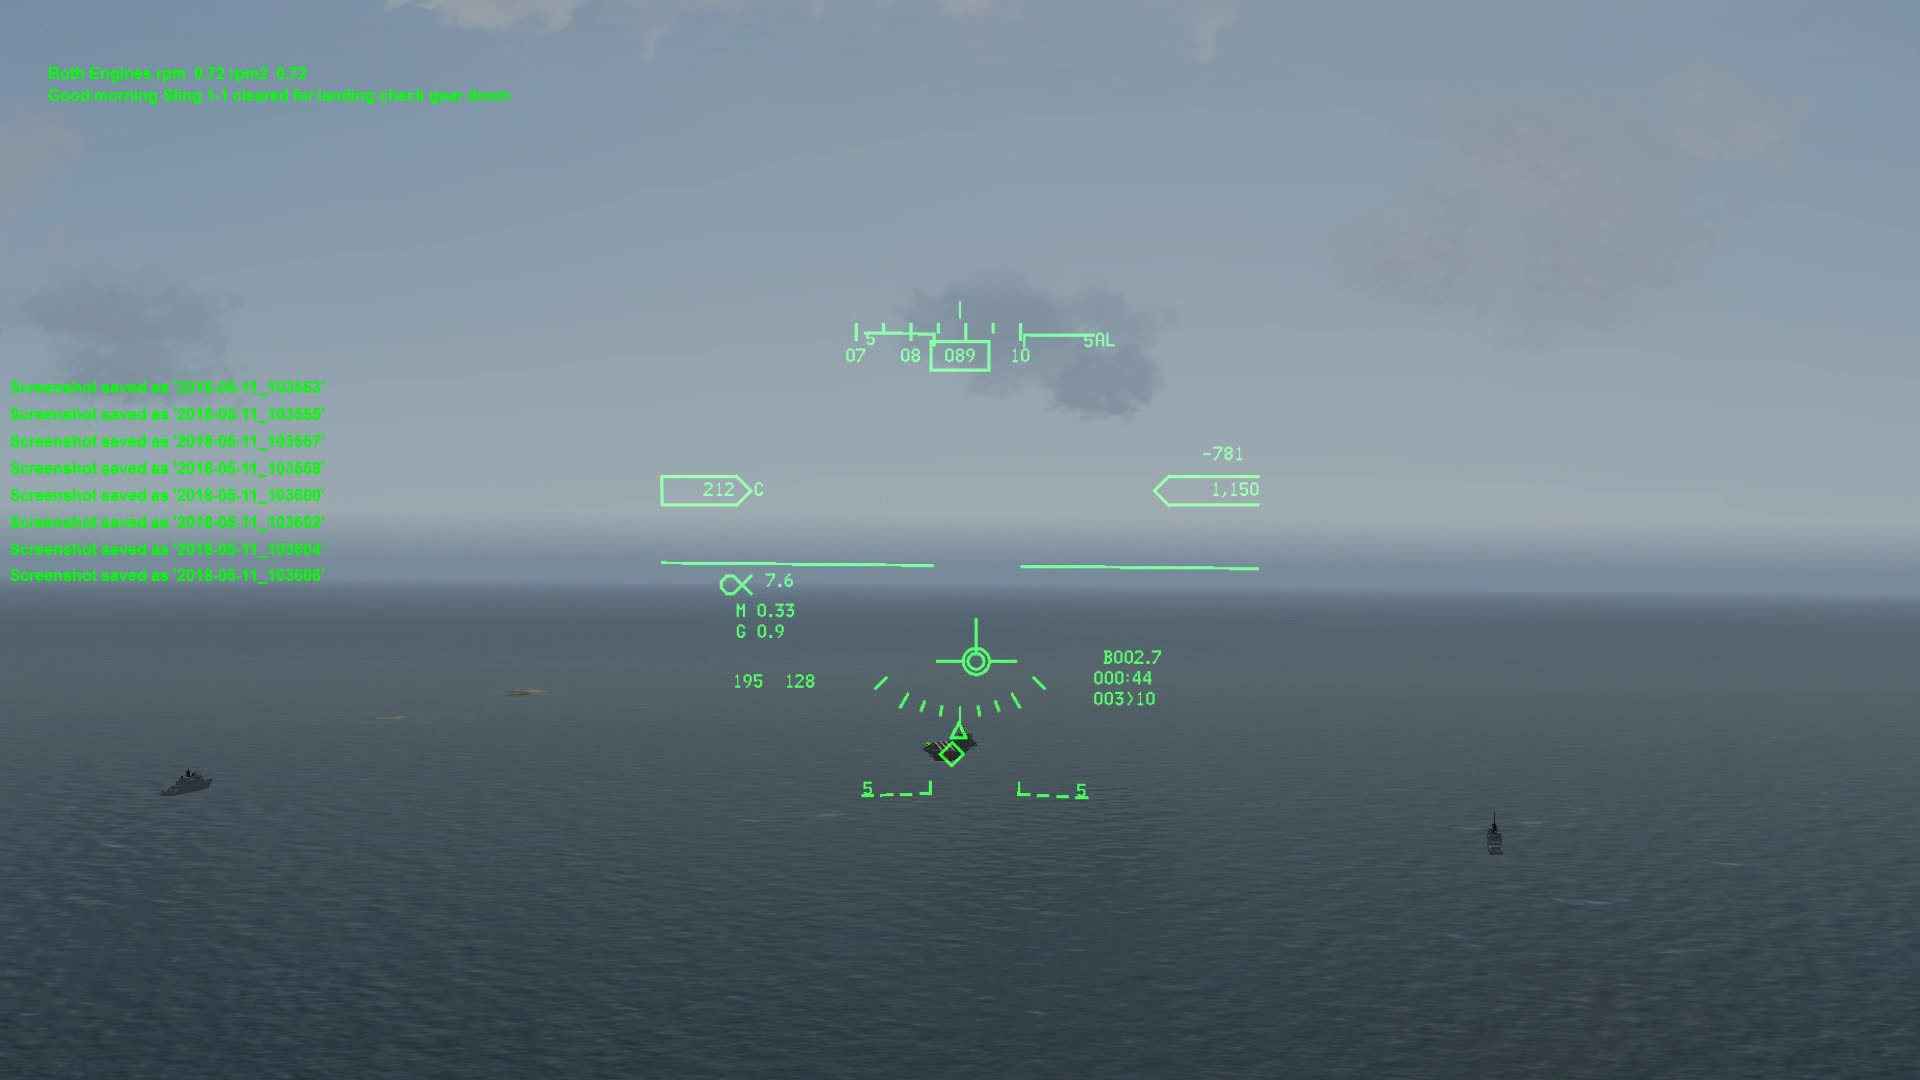speed vector: (960, 644, 1004, 679)
